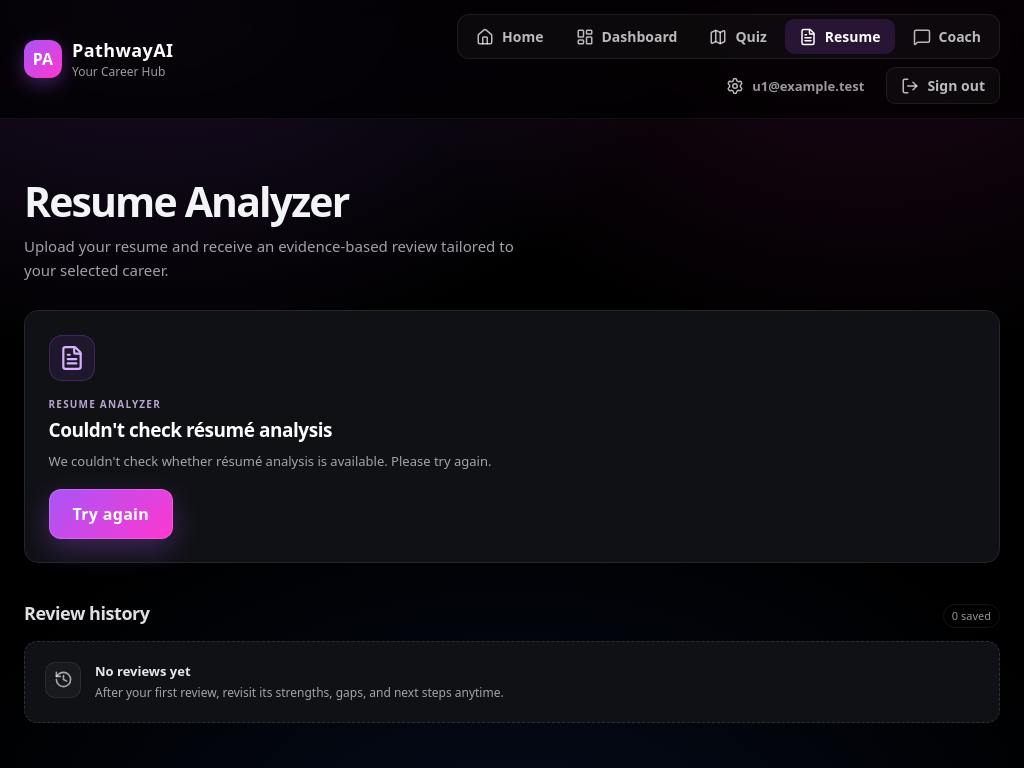
Scenario: /resume availability › shows a retry state for a network error
Expected: the message "We couldn't check whether résumé analysis is available. Please try again." is shown, left=48, top=451, right=491, bottom=472
Expected: the message shows "We couldn't check whether", left=48, top=452, right=491, bottom=470
Step 1. Click the button "Try again" → (111, 514), box left=48, top=489, right=173, bottom=539
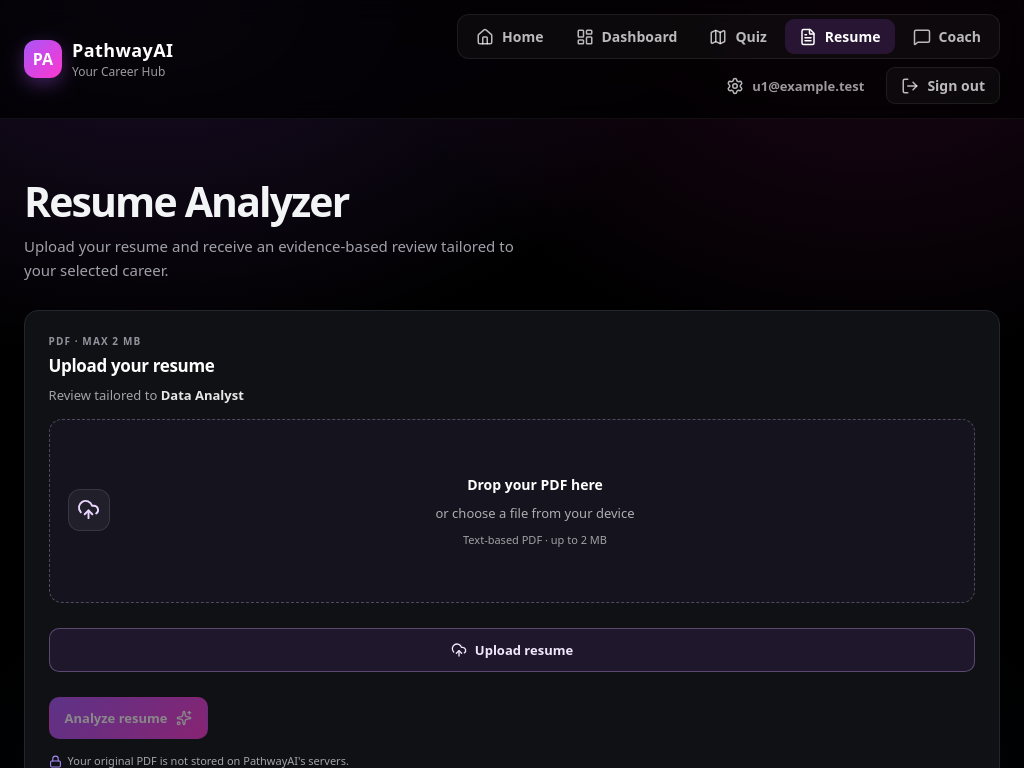
Result: the text "Review tailored to Data Analyst" is shown at left=48, top=386, right=244, bottom=404
